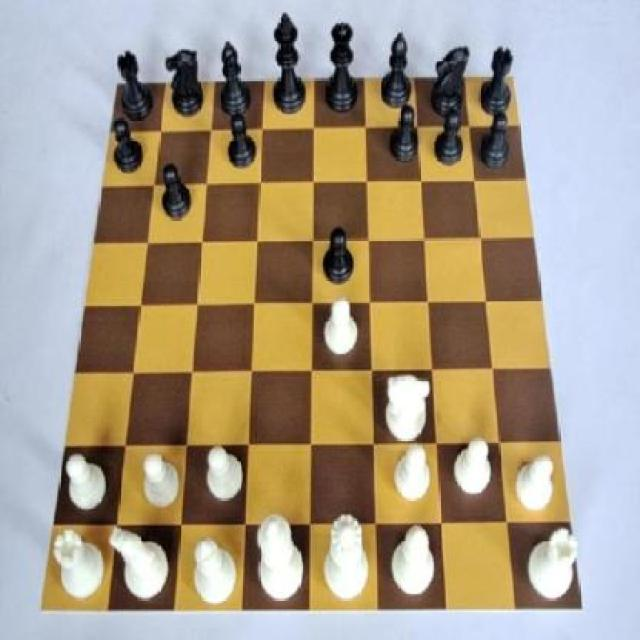bishop: (217, 39, 255, 120), (377, 35, 416, 108)
black-bishop: (266, 14, 310, 116)
black-king: (428, 37, 474, 123), (164, 47, 206, 121)
black-knight: (320, 220, 361, 288), (108, 117, 150, 180), (158, 162, 194, 228), (477, 105, 513, 170), (226, 108, 259, 178), (435, 101, 464, 172), (391, 103, 422, 169)
black-pawn: (323, 20, 362, 118)
black-queen: (477, 42, 521, 119), (118, 51, 154, 126)
black-rook: (188, 536, 243, 612), (388, 522, 440, 602)
white-bishop: (254, 516, 306, 606)
white-king: (109, 526, 173, 604), (378, 369, 430, 446)
white-knight: (200, 438, 246, 512), (60, 454, 114, 516), (137, 452, 186, 518), (508, 452, 555, 516), (452, 437, 496, 505), (322, 297, 361, 363), (392, 443, 428, 506)
white-pawn: (324, 512, 370, 606)
white-queen: (51, 523, 108, 609), (526, 518, 582, 602)
